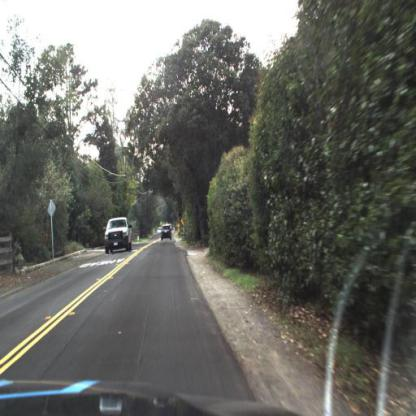car: (105, 214, 132, 258), (161, 224, 173, 243)
